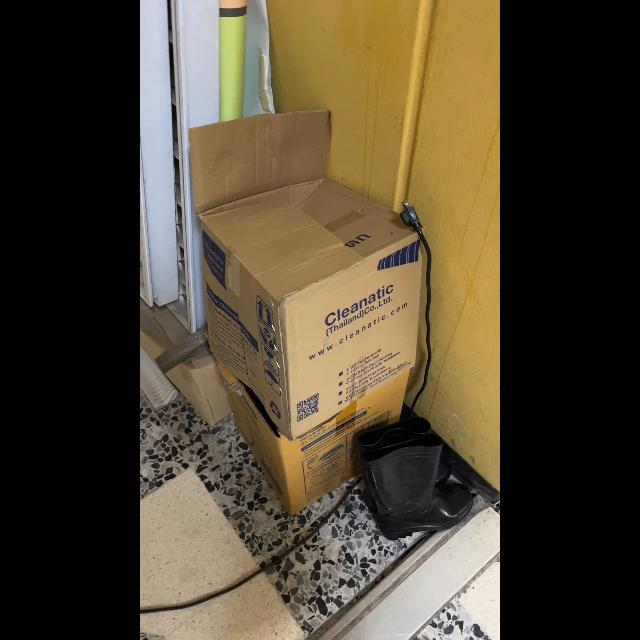cardboard_box: (185, 103, 428, 434), (217, 358, 415, 508)
